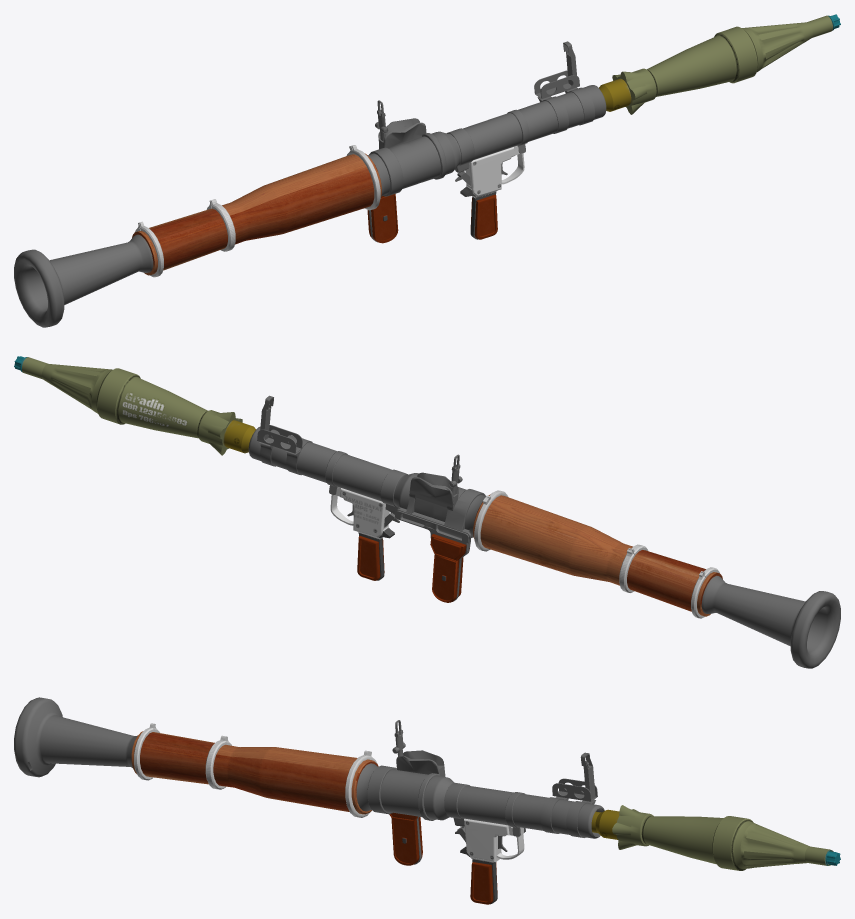
The picture shows the model from 3 angles, top to bottom: view 1: azimuth 30°, elevation 25°; view 2: azimuth 150°, elevation 25°; view 3: azimuth 330°, elevation 25°; orthographic projection.
Parts seen in each view (by area): view 1: pCube12_black_metal_0, pCube12_wood_0, pCylinder8_rocket_0, pCube12_plastek_0, pCube12_with_metal_0, pCube12_bast_0; view 2: pCube12_black_metal_0, pCube12_wood_0, pCylinder8_rocket_0, pCube12_plastek_0, pCube12_with_metal_0, pCube12_bast_0; view 3: pCube12_black_metal_0, pCube12_wood_0, pCylinder8_rocket_0, pCube12_plastek_0, pCube12_with_metal_0, pCube12_bast_0.
Boxes of the visible parts, left/top/right/bottom form: pCube12_black_metal_0: left=14, top=41, right=606, bottom=327; pCube12_wood_0: left=132, top=153, right=381, bottom=275; pCylinder8_rocket_0: left=599, top=14, right=840, bottom=114; pCube12_plastek_0: left=367, top=194, right=497, bottom=243; pCube12_with_metal_0: left=460, top=145, right=524, bottom=239; pCube12_bast_0: left=135, top=145, right=380, bottom=277; pCube12_black_metal_0: left=248, top=395, right=840, bottom=668; pCube12_wood_0: left=473, top=494, right=722, bottom=616; pCylinder8_rocket_0: left=14, top=356, right=255, bottom=455; pCube12_plastek_0: left=357, top=534, right=469, bottom=602; pCube12_with_metal_0: left=330, top=486, right=394, bottom=580; pCube12_bast_0: left=474, top=490, right=719, bottom=618; pCube12_black_metal_0: left=14, top=697, right=604, bottom=864; pCube12_wood_0: left=131, top=731, right=378, bottom=814; pCylinder8_rocket_0: left=591, top=805, right=840, bottom=870; pCube12_plastek_0: left=389, top=812, right=497, bottom=904; pCube12_with_metal_0: left=460, top=818, right=524, bottom=904; pCube12_bast_0: left=134, top=723, right=377, bottom=817.
Bounding box in the file's own units: 45.46 × 8.84 × 3.89.
6 materials, 6 textured.
